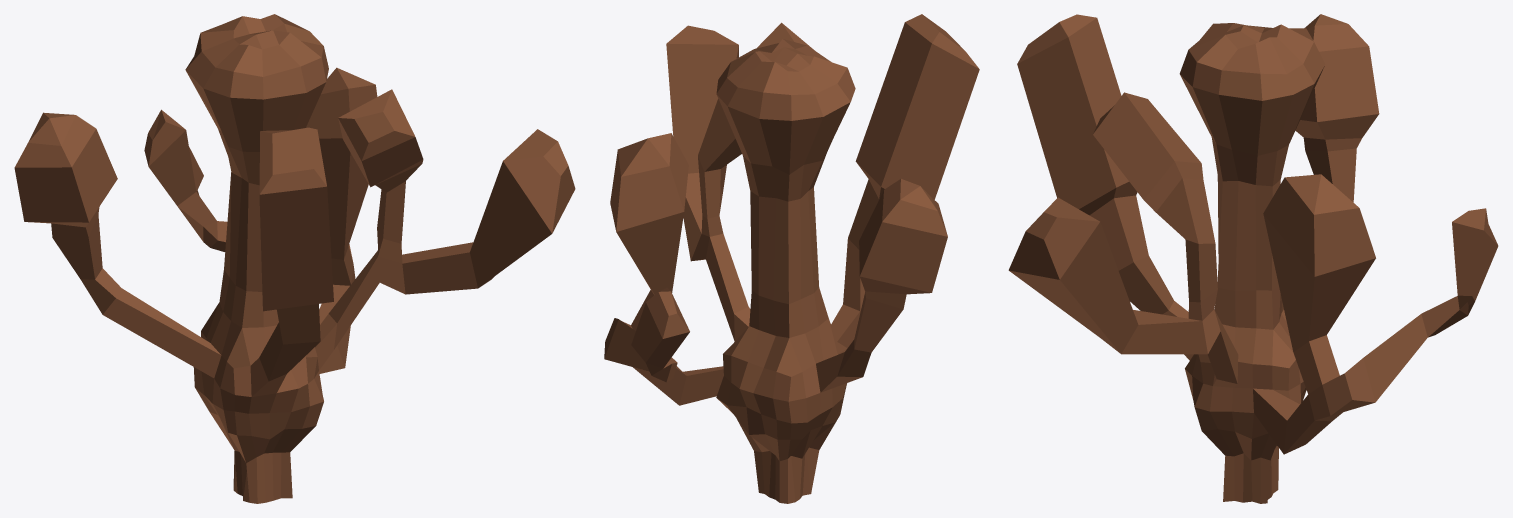
The model's file is S0.Cactus6.glb.
3 renders of one model, left to right at view 1: azimuth 30°, elevation 25°; view 2: azimuth 150°, elevation 25°; view 3: azimuth 270°, elevation 25°, orthographic. The views are drawn at different scales.
Visible parts, largest first — view 1: Cube.006; view 2: Cube.006; view 3: Cube.006.
Boxes of the visible parts, x1,y1,x2,y2 form: Cube.006: (14, 14, 575, 503); Cube.006: (604, 14, 979, 503); Cube.006: (1008, 14, 1498, 503).
Size of the model in its own units: 7.68 by 7.99 by 7.59.
